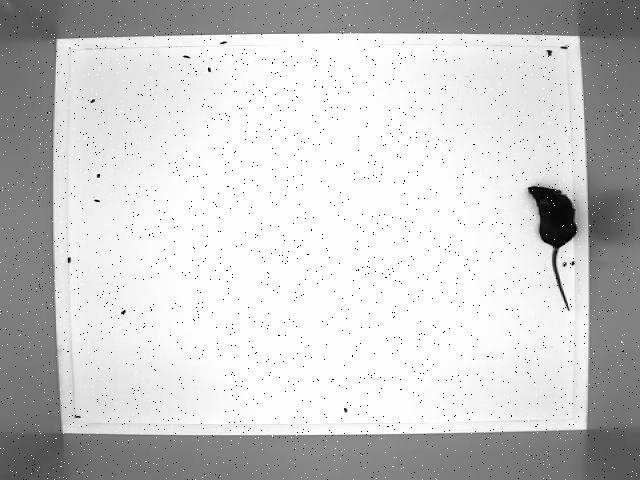Tikus: (520, 184, 592, 310)
